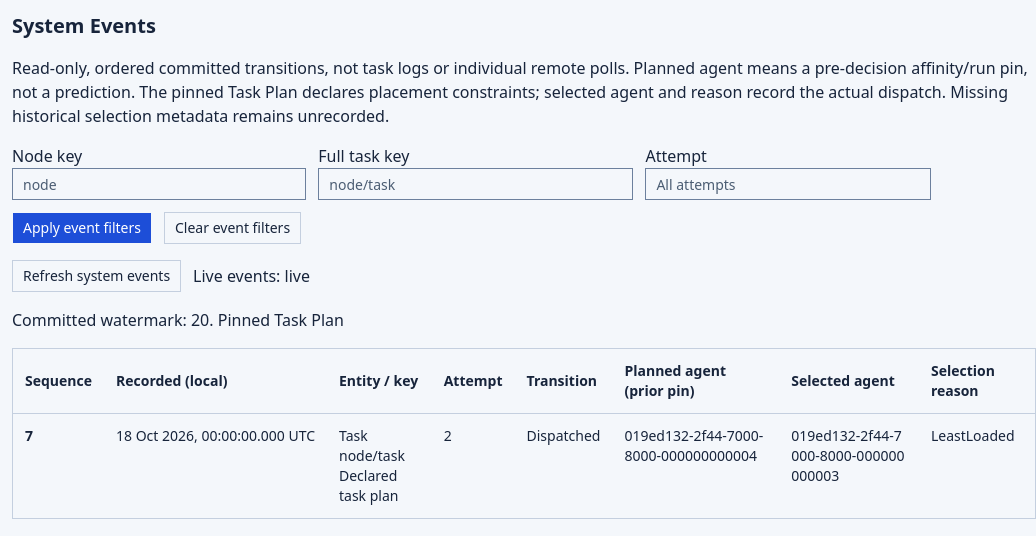
read-only system events › hides stale events and surfaces refresh failure HTTP 401
Expected: the table is shown, [13,349,1035,518]
Step 1. Click the button "Refresh system events" → (97,276), box [12,260,181,292]
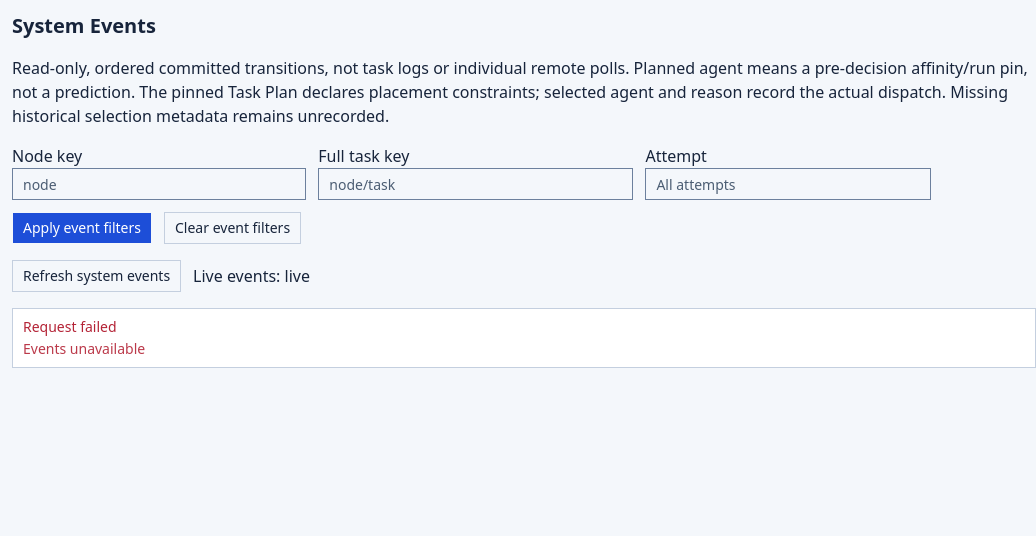
Expected: the message "Request failed Events unavailable" is shown, [12,308,1035,368]
Expected: the table is gone
